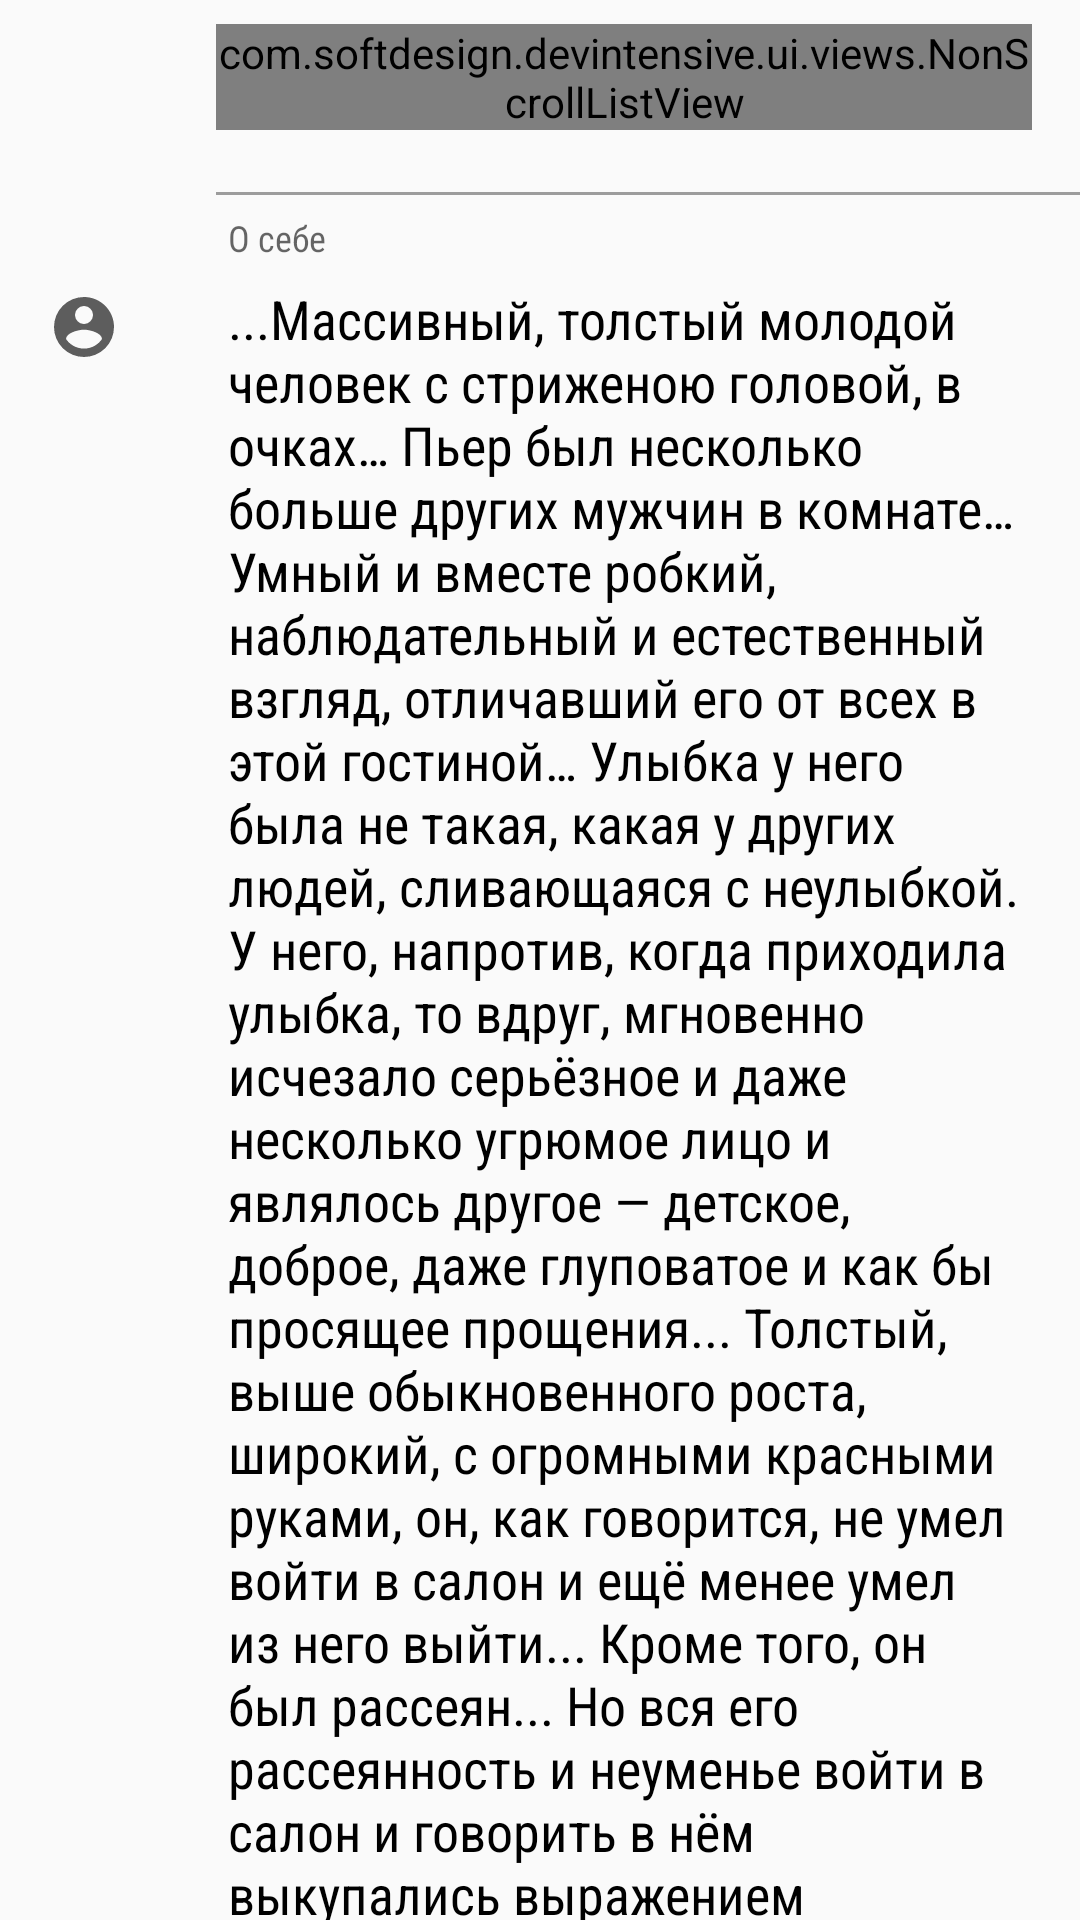

Where to tap for icons on this 1080x1920 app screen, as (x,y):
account circle: (84,327)
